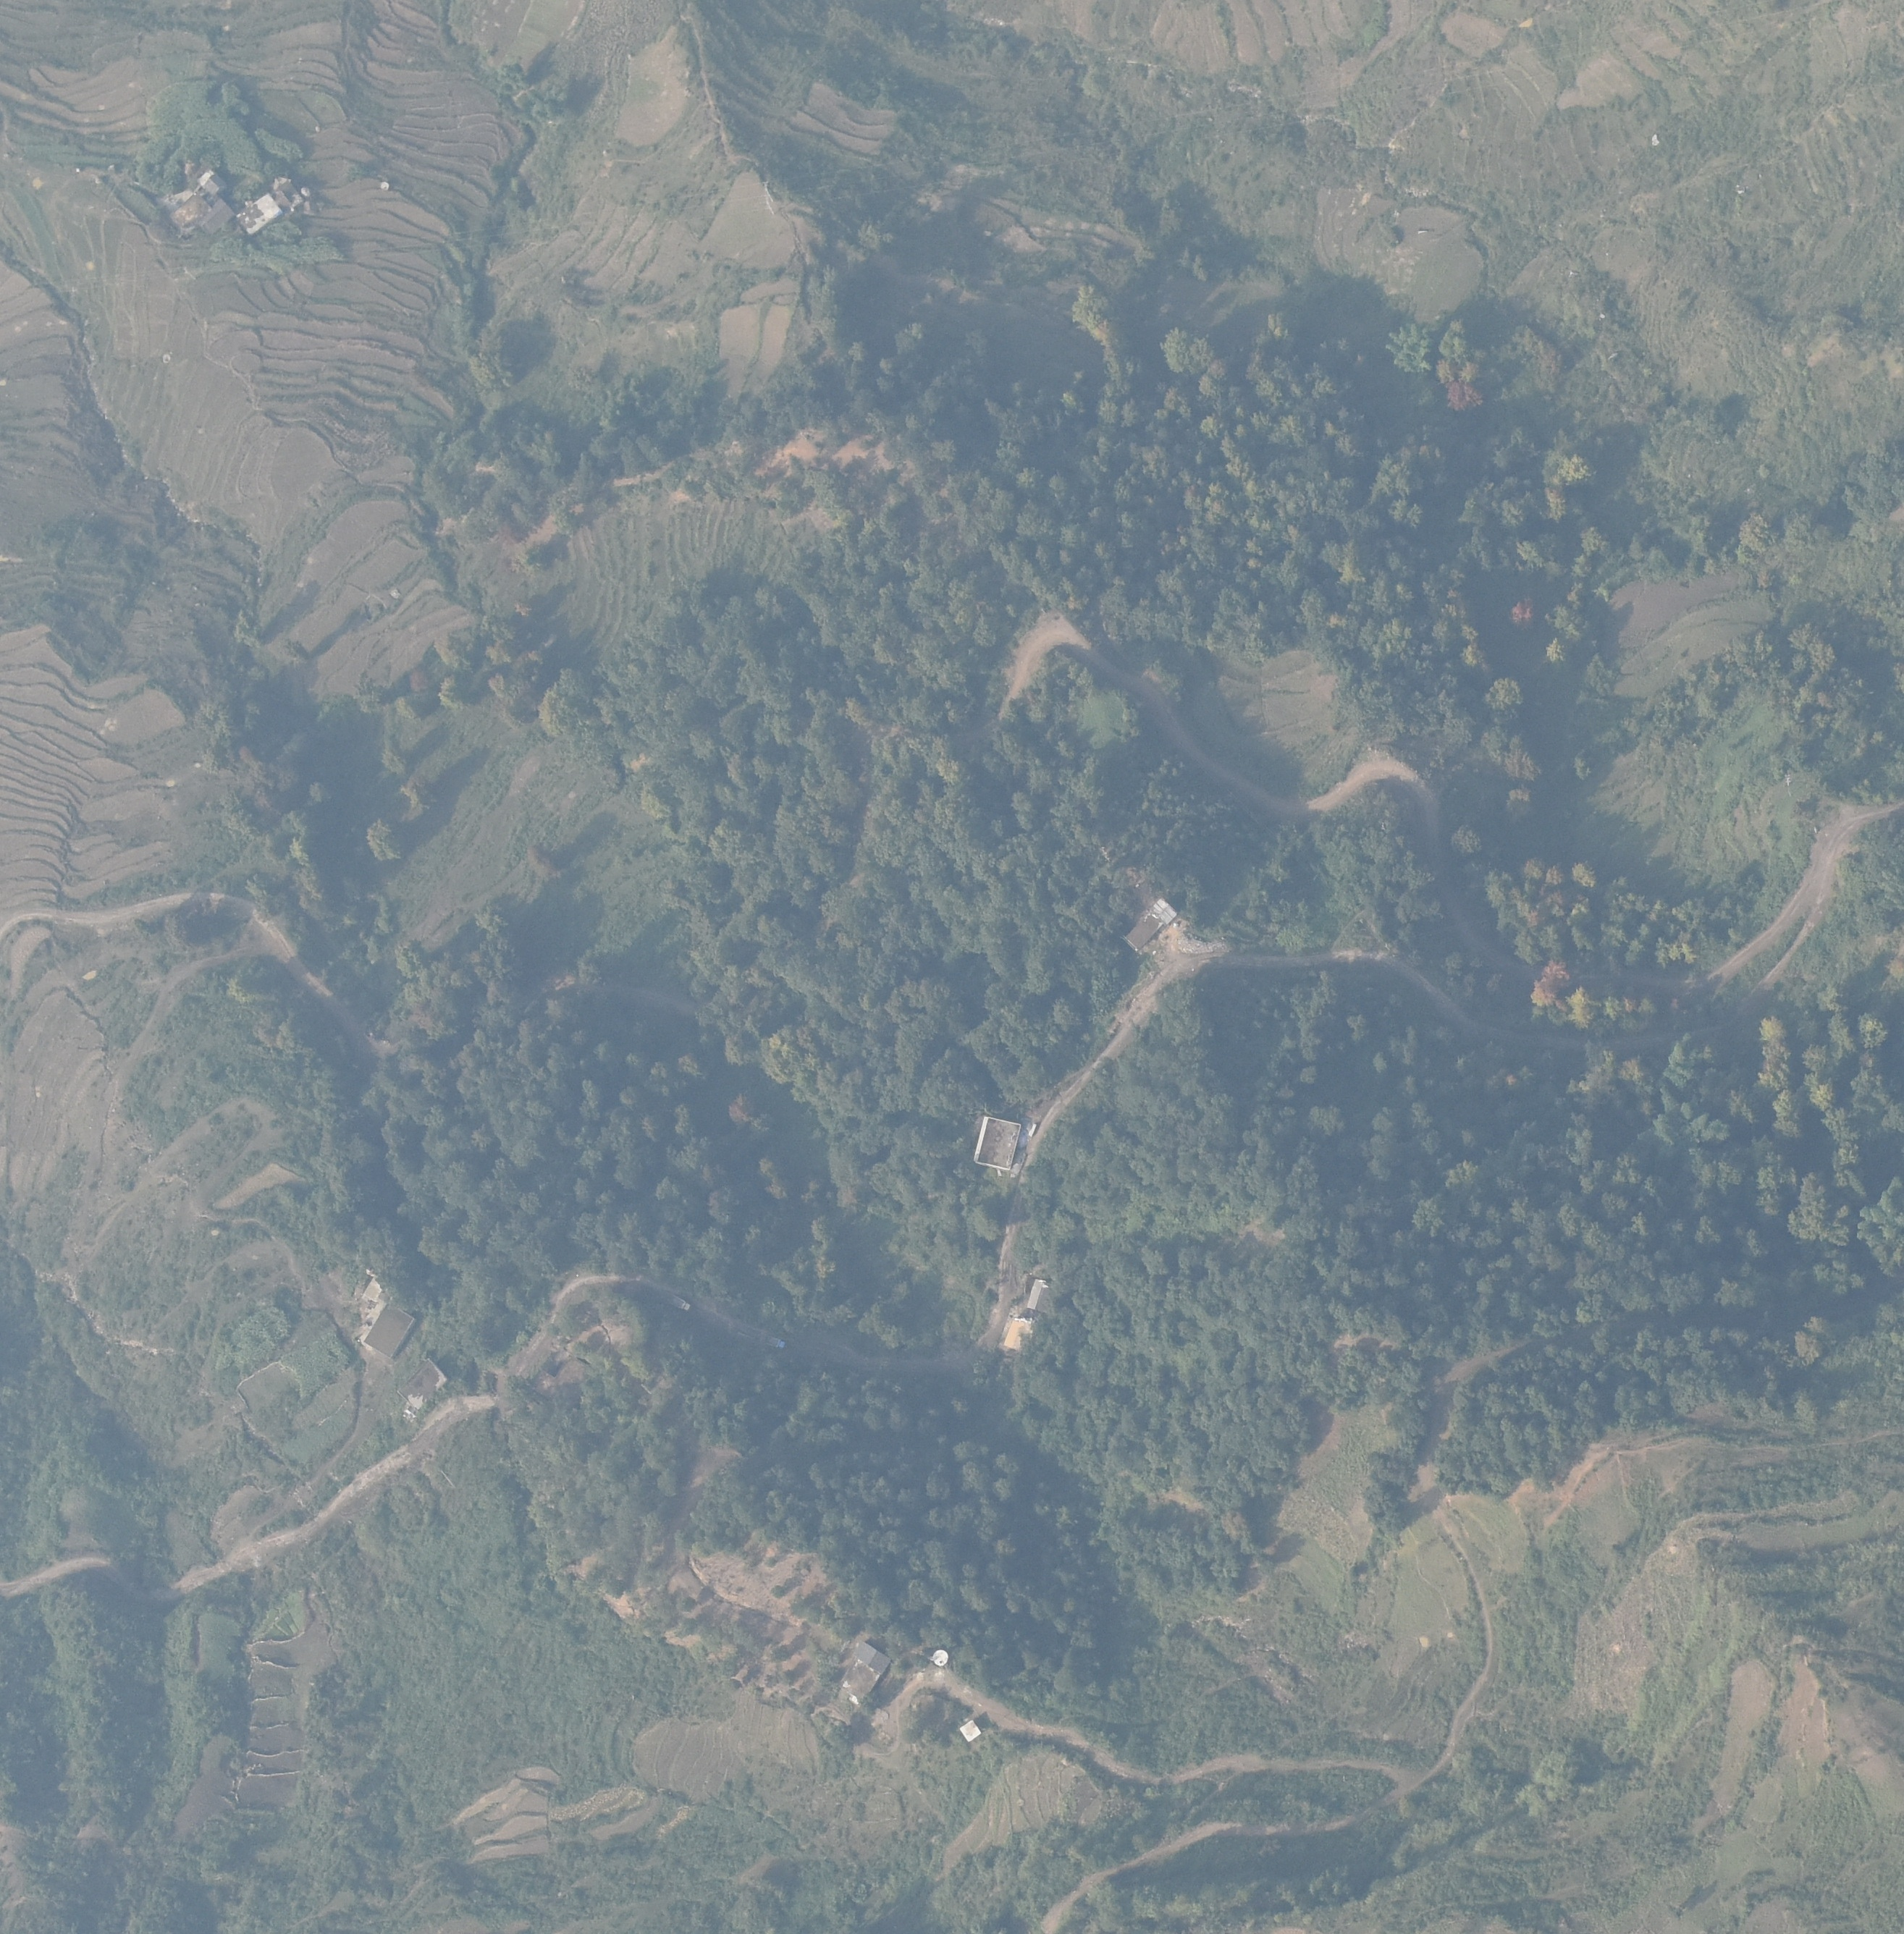building: (1123, 895, 1179, 952), (364, 1301, 417, 1362), (392, 1359, 448, 1411), (973, 1113, 1020, 1174), (237, 190, 282, 242), (1004, 1317, 1039, 1352), (202, 199, 234, 235), (1025, 1277, 1057, 1311), (197, 171, 228, 194), (277, 183, 303, 209)
